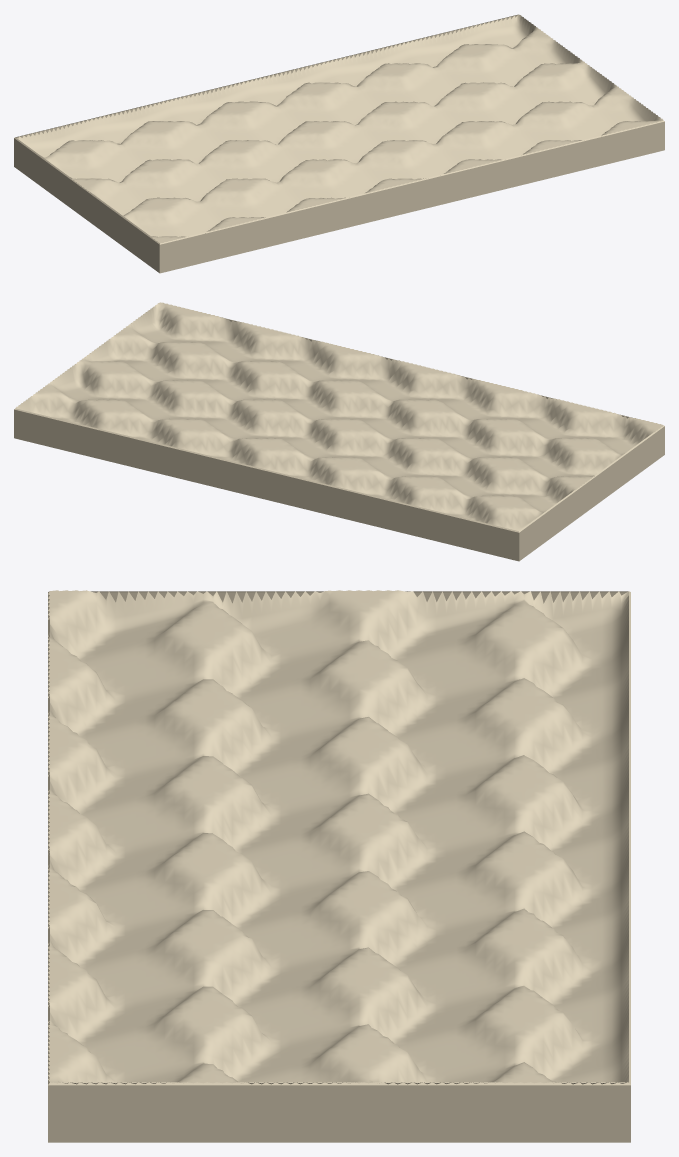
File: mahsulot.glb
3 views of the same model, one above another, from view 1: azimuth 30°, elevation 25°; view 2: azimuth 150°, elevation 25°; view 3: azimuth 270°, elevation 25° (orthographic). The views are drawn at different scales.
Visible parts, largest first — view 1: mahsulot; view 2: mahsulot; view 3: mahsulot.
Part boxes in pixels (<box>): mahsulot: <box>14,14,664,273</box>; mahsulot: <box>14,302,664,561</box>; mahsulot: <box>48,590,630,1142</box>.
Bounding box in the file's own units: 0.8 × 0.045 × 0.4.
